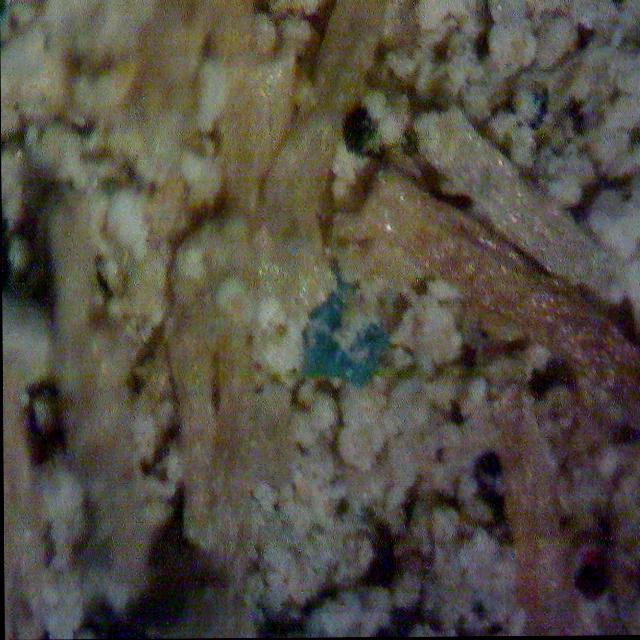microplastic: (301, 275, 385, 381)
